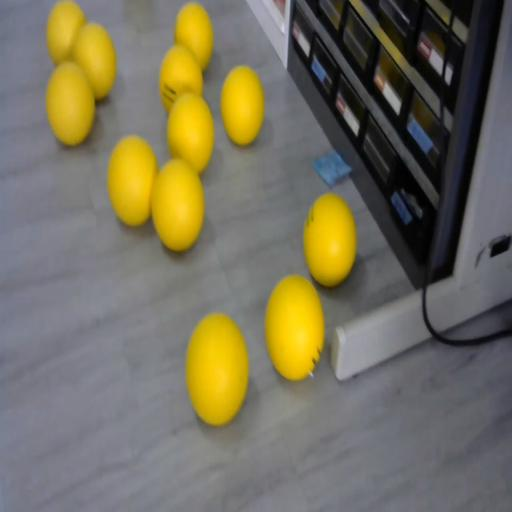FUEL: (184, 311, 249, 425), (263, 272, 326, 380), (303, 192, 357, 287), (151, 159, 204, 251), (106, 134, 158, 226), (44, 61, 96, 147), (166, 92, 214, 174), (220, 65, 265, 145), (174, 2, 214, 71), (46, 1, 87, 67)
